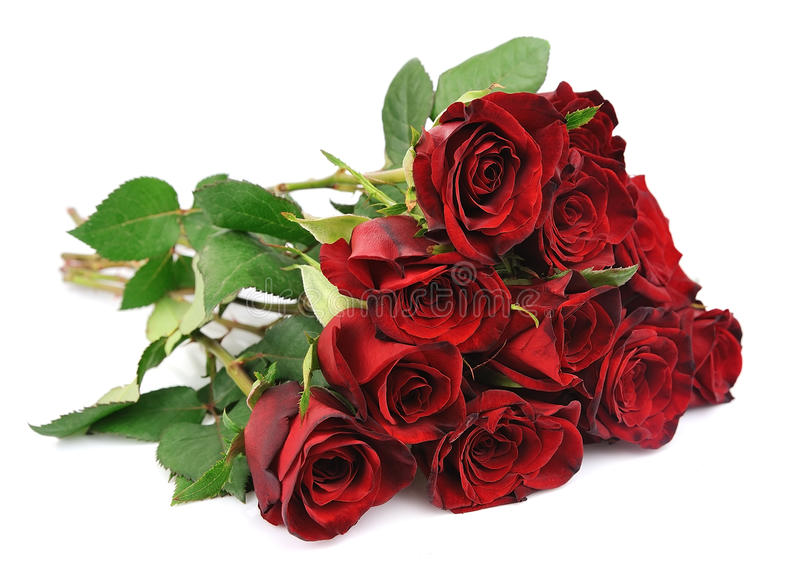RedRose: (238, 362, 417, 543), (317, 215, 506, 366), (403, 87, 544, 255), (425, 381, 591, 519), (315, 296, 462, 447), (497, 261, 628, 393), (605, 162, 710, 320), (575, 323, 694, 447), (539, 156, 627, 277), (537, 67, 638, 153), (679, 300, 751, 416)
